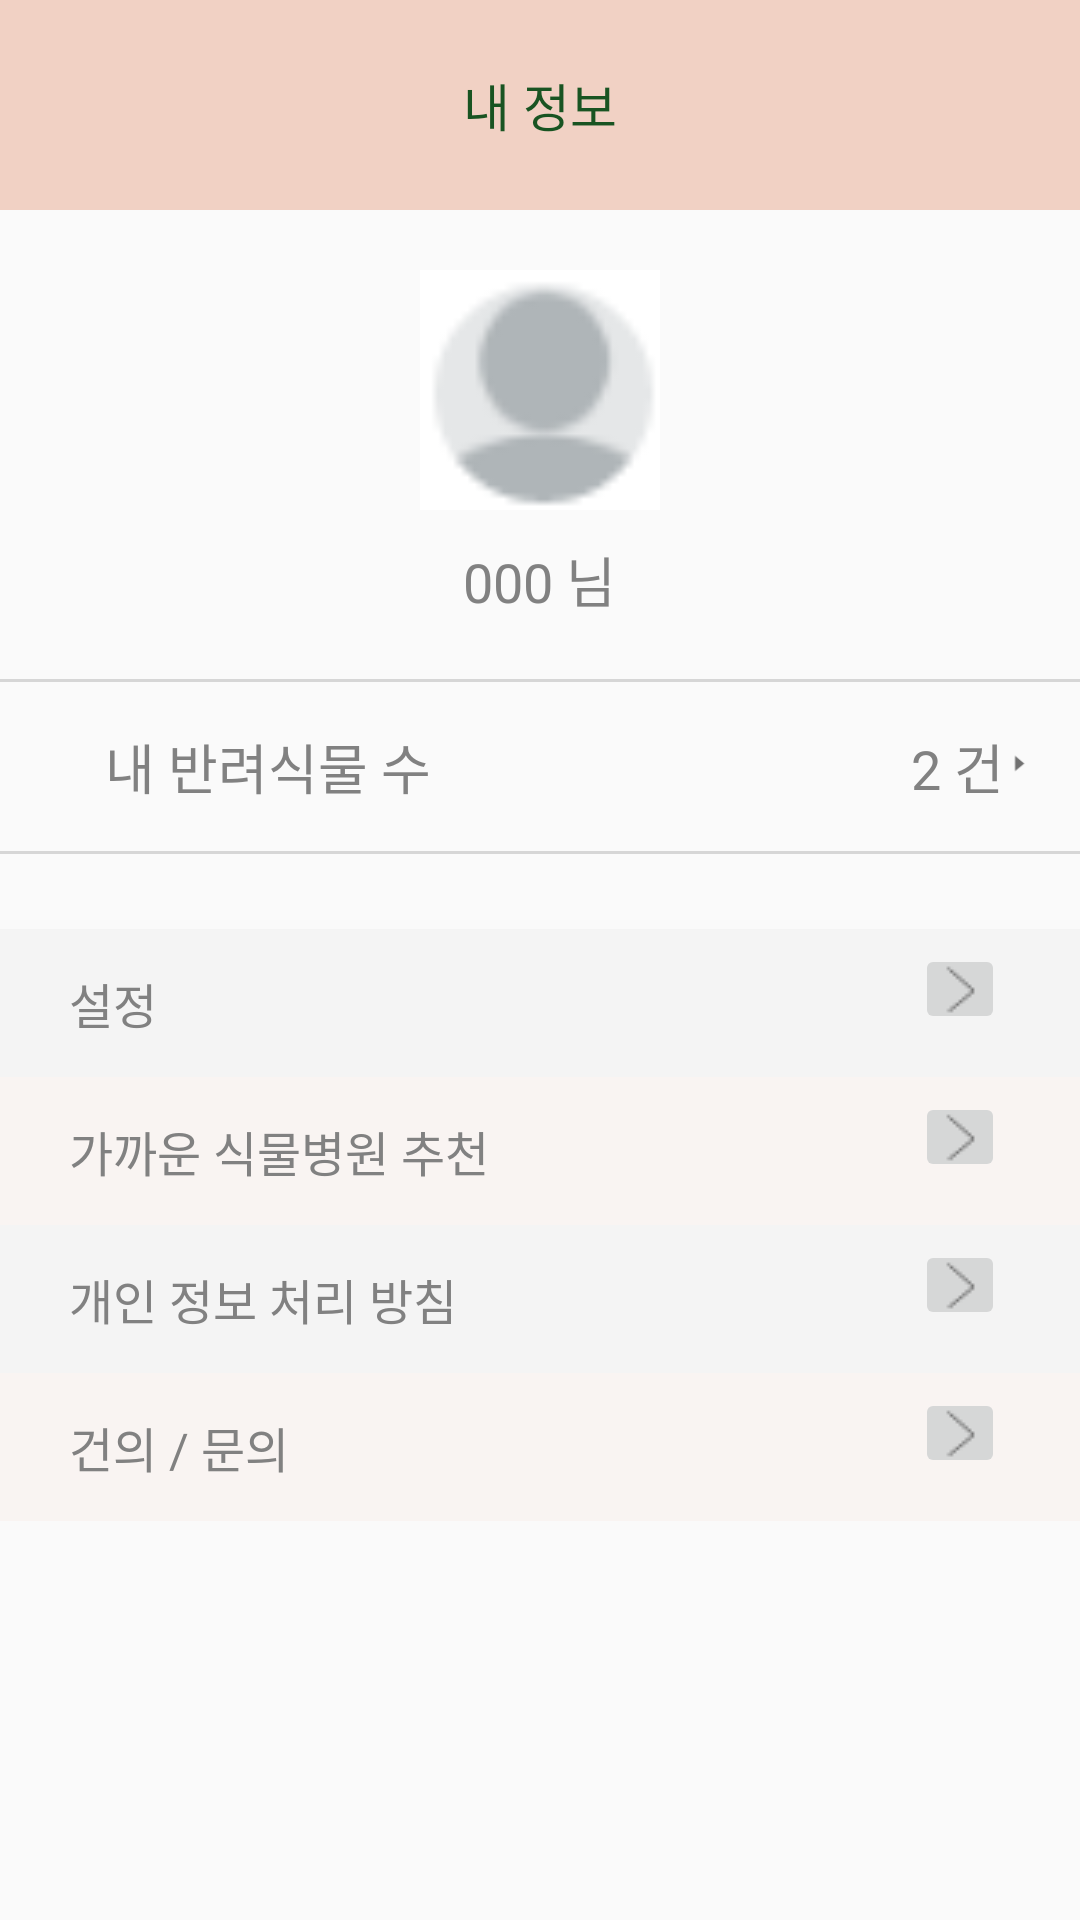

Screen size 1080 × 1920. Icon name, then its center in pixels as [x,y]:
mypage: [544,395]
mypage right: [960,989], [960,1137], [960,1285], [960,1433]
